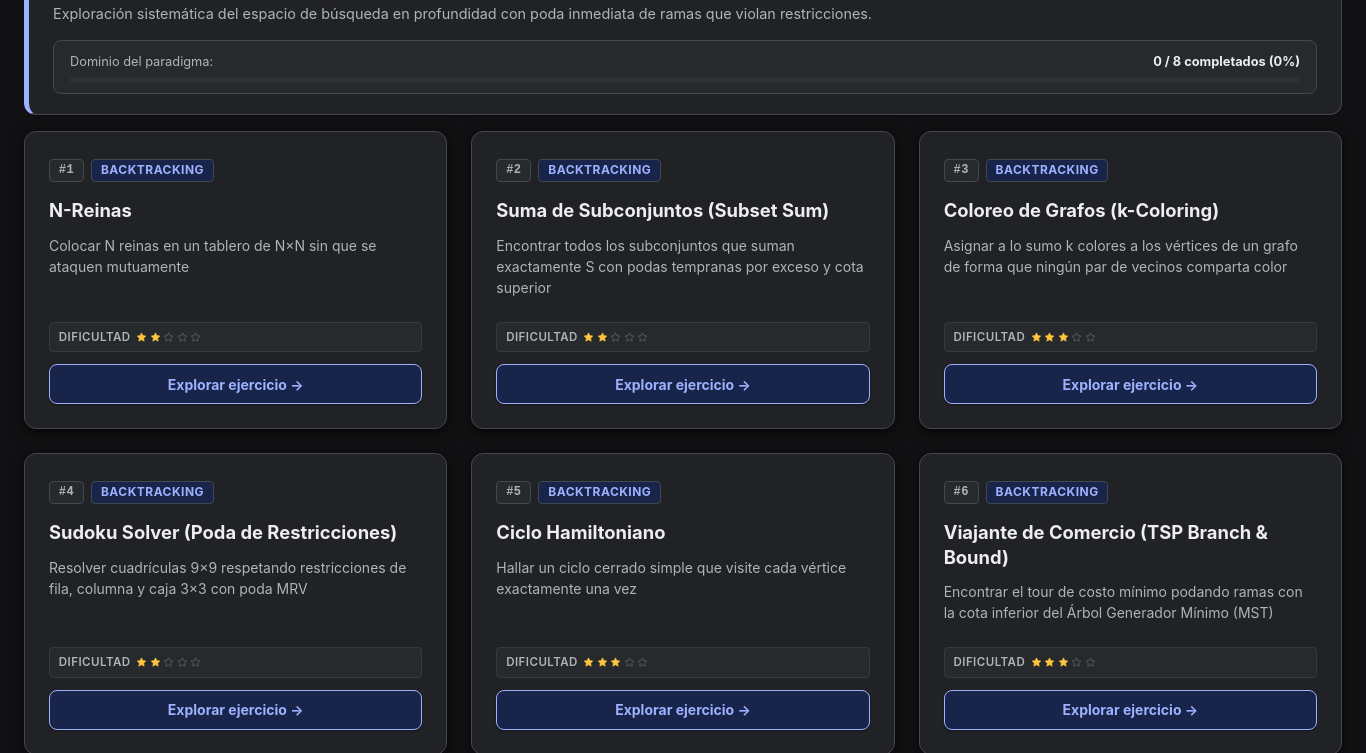
Phase D: Browser / User Journey Integration Verification (15 Core Flows) › Flow 15: Navigation back to catalog and switching to another exercise
Later steps or results of the test are not shown.
(page scrolled)
Click the button with class "btn-open-exercise" below "N-Reinas": (236, 384) [49,364,422,404]
(page scrolled)
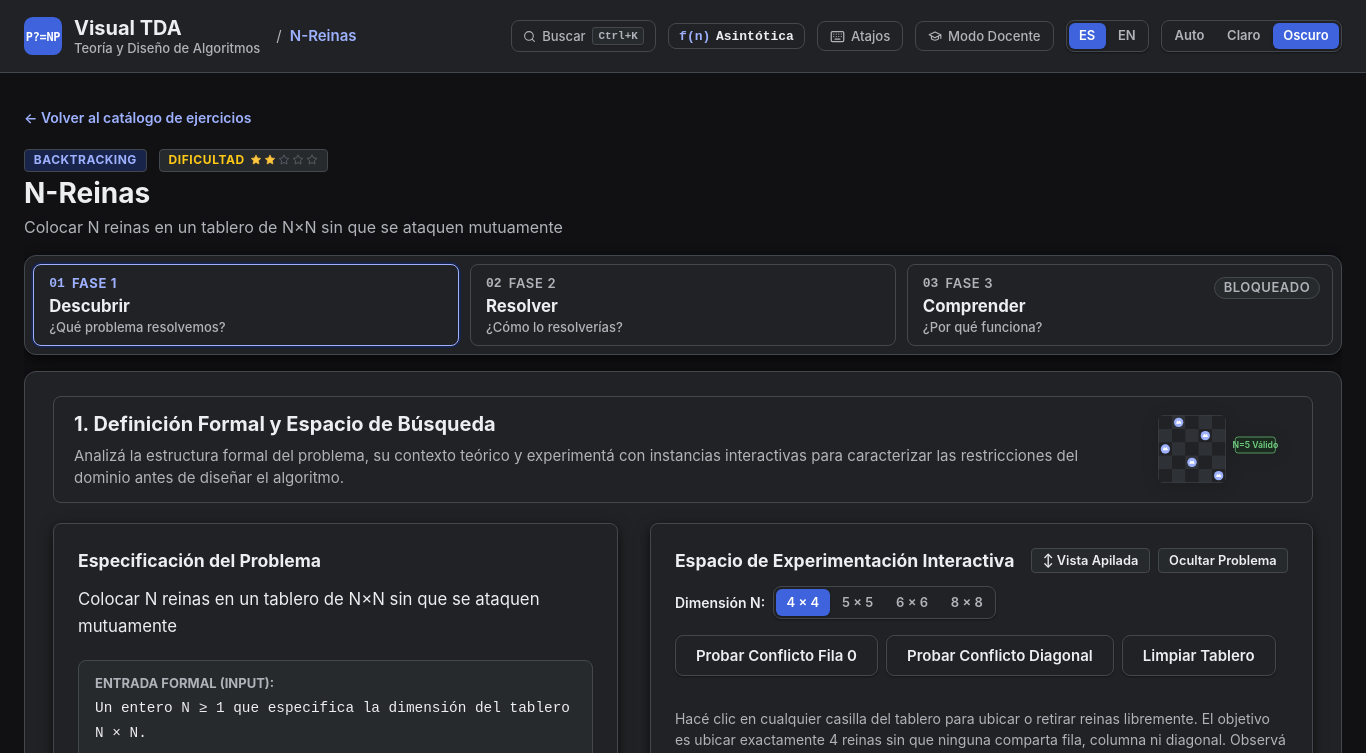
Expected: the text "N-Reinas" is shown, [290,25,357,47]
Now the button with class "btn-back" is shown, box [24,109,251,126]
